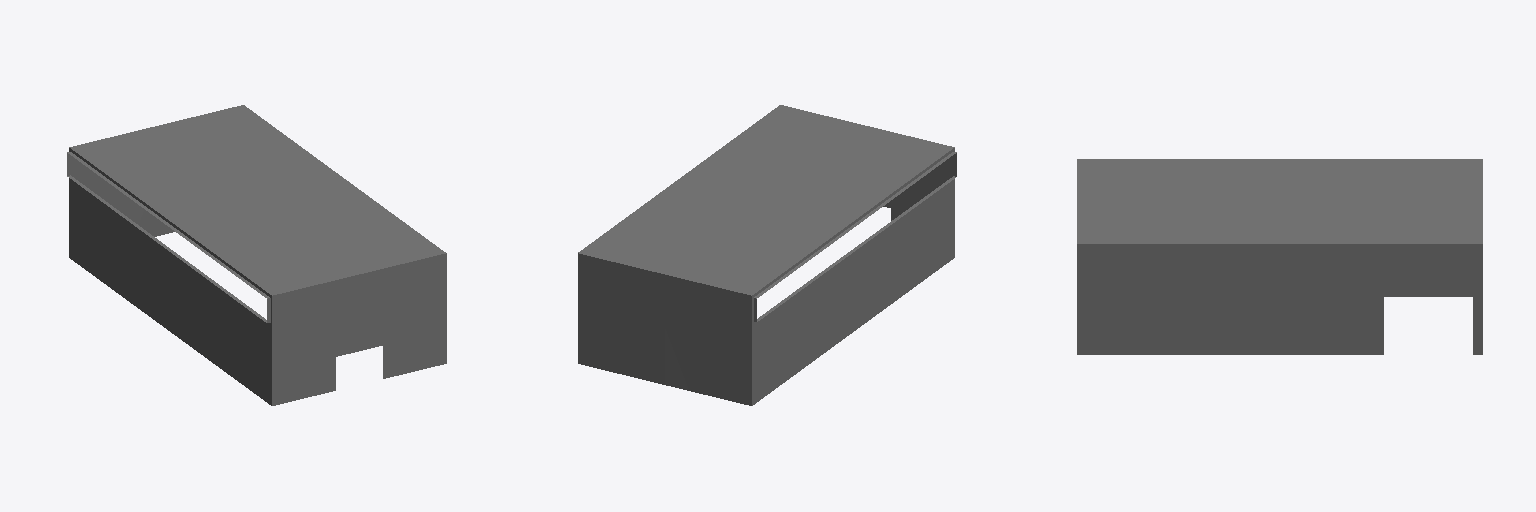
The model's file is level_1_wall 1.obj.
3 renders of one model, left to right at view 1: azimuth 30°, elevation 25°; view 2: azimuth 150°, elevation 25°; view 3: azimuth 270°, elevation 25°, orthographic.
Visible parts, largest first — view 1: polySurface779 polySurface408 pTorus12; view 2: polySurface779 polySurface408 pTorus12; view 3: polySurface779 polySurface408 pTorus12.
Boxes of the visible parts, box(x1,y1,x2,y2) form: polySurface779 polySurface408 pTorus12: box(67, 105, 446, 405); polySurface779 polySurface408 pTorus12: box(578, 105, 956, 405); polySurface779 polySurface408 pTorus12: box(1077, 159, 1482, 354).
Bounding box in the file's own units: 192 × 114 × 379.